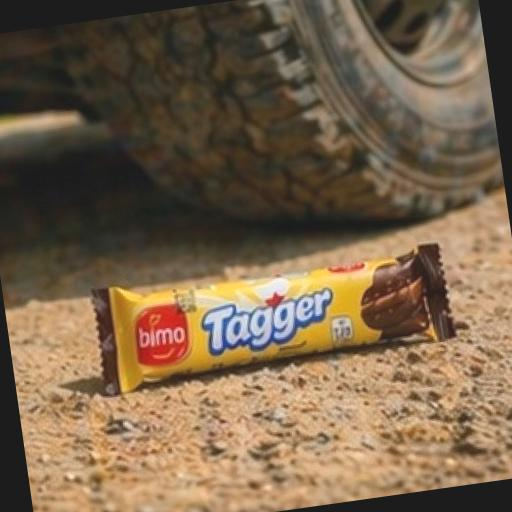tagger: (38, 132, 502, 459)
